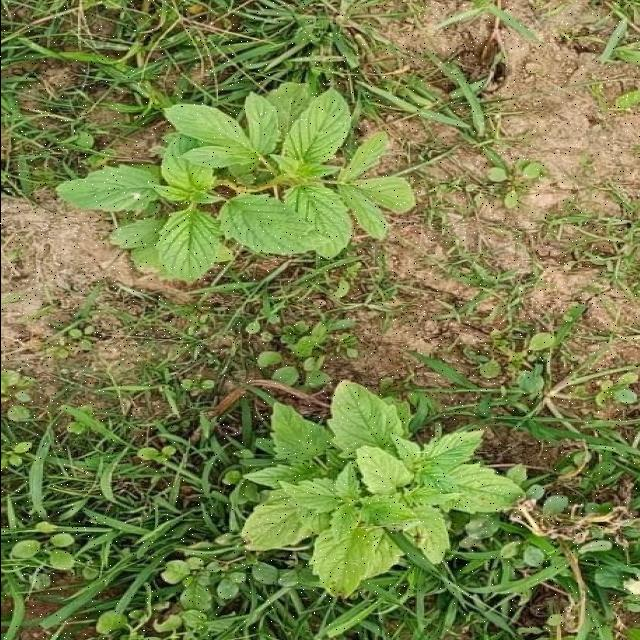plant: (56, 82, 413, 280), (240, 381, 521, 595)
